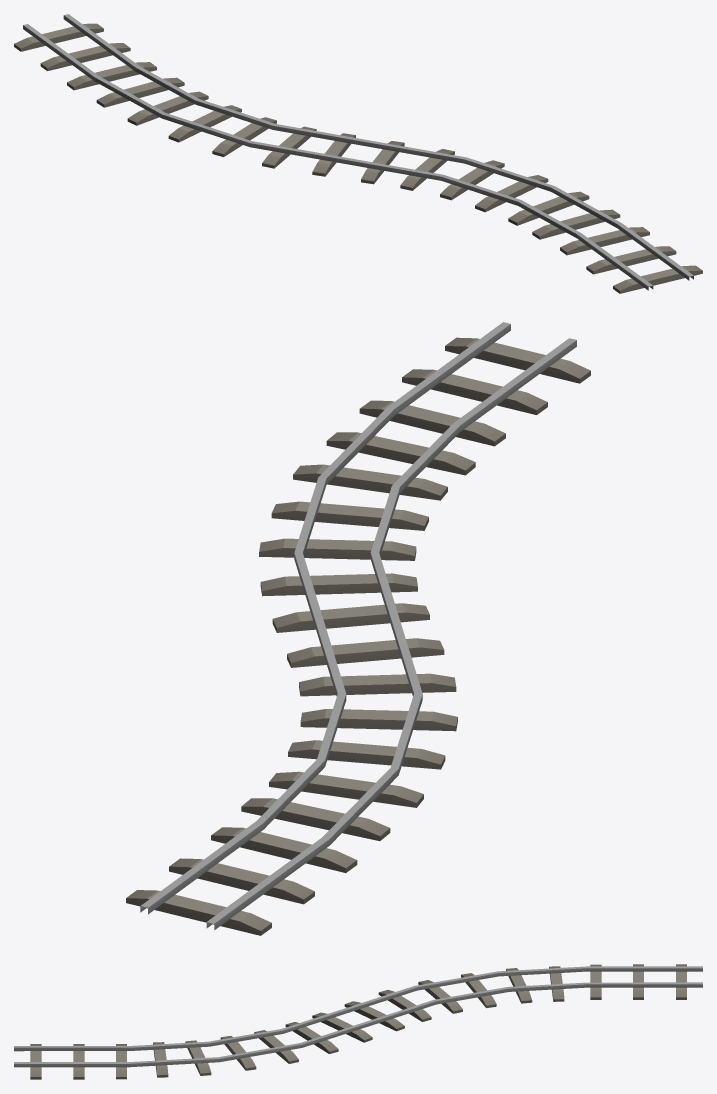
File: Railway_Line_S_L.fbx
3 views of the same model, one above another, from view 1: azimuth 30°, elevation 25°; view 2: azimuth 150°, elevation 25°; view 3: azimuth 270°, elevation 25° (orthographic). The views are drawn at different scales.
Parts seen in each view (by area): view 1: Railway_Line_S_L; view 2: Railway_Line_S_L; view 3: Railway_Line_S_L.
Boxes of the visible parts, bbox=[...] form: Railway_Line_S_L: bbox=[14, 14, 702, 293]; Railway_Line_S_L: bbox=[126, 322, 590, 935]; Railway_Line_S_L: bbox=[14, 964, 702, 1079].
Bounding box in the file's own units: 1547 × 51.82 × 4000.
